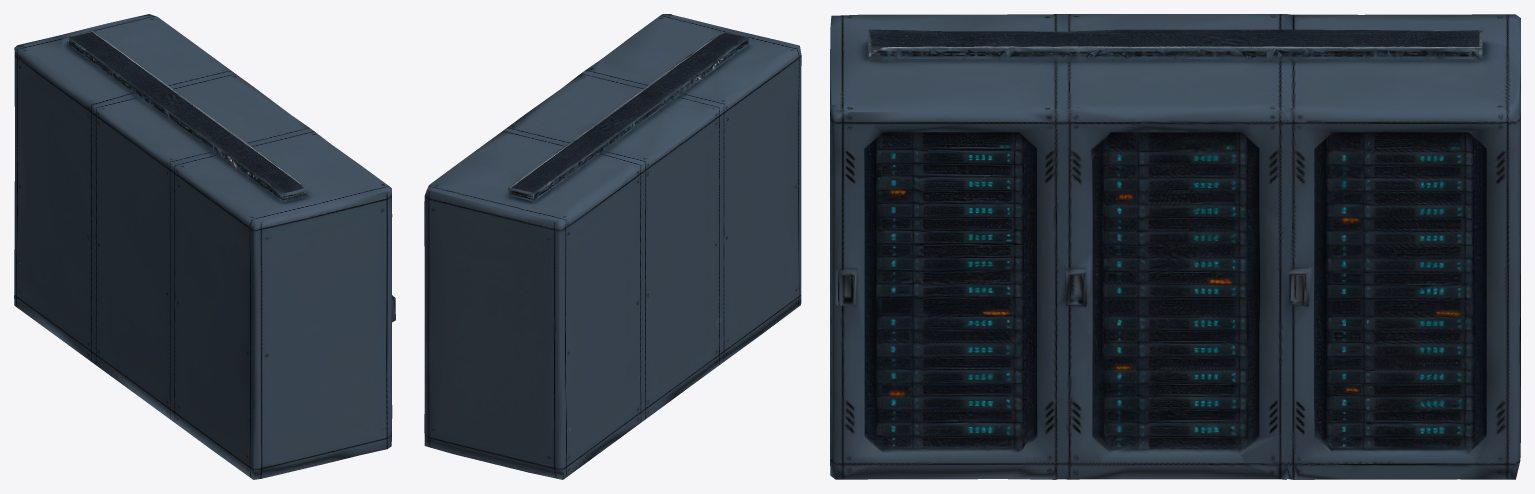
File: prop_rack.glb
The picture shows the model from 3 angles, left to right: view 1: azimuth 30°, elevation 25°; view 2: azimuth 150°, elevation 25°; view 3: azimuth 270°, elevation 25°; orthographic projection. The views are drawn at different scales.
Visible parts, largest first — view 1: tripo_node_9bc3908a-8c55-4e48-9598-1cd2c3a20896; view 2: tripo_node_9bc3908a-8c55-4e48-9598-1cd2c3a20896; view 3: tripo_node_9bc3908a-8c55-4e48-9598-1cd2c3a20896.
Boxes of the visible parts, x1,y1,x2,y2 form: tripo_node_9bc3908a-8c55-4e48-9598-1cd2c3a20896: [14, 14, 395, 479]; tripo_node_9bc3908a-8c55-4e48-9598-1cd2c3a20896: [424, 14, 801, 479]; tripo_node_9bc3908a-8c55-4e48-9598-1cd2c3a20896: [830, 14, 1520, 479].
Bounding box in the file's own units: 0.3442 × 0.6103 × 1.
Materials: 1 (1 with a texture image).
